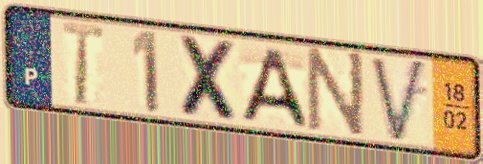1: (130, 26, 162, 117)
A: (236, 45, 311, 131)
N: (304, 44, 367, 143)
T: (59, 18, 107, 108)
V: (367, 54, 430, 148)
X: (175, 32, 245, 127)
